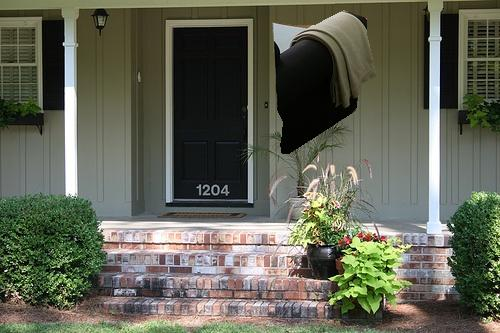tampered: (273, 11, 376, 154)
